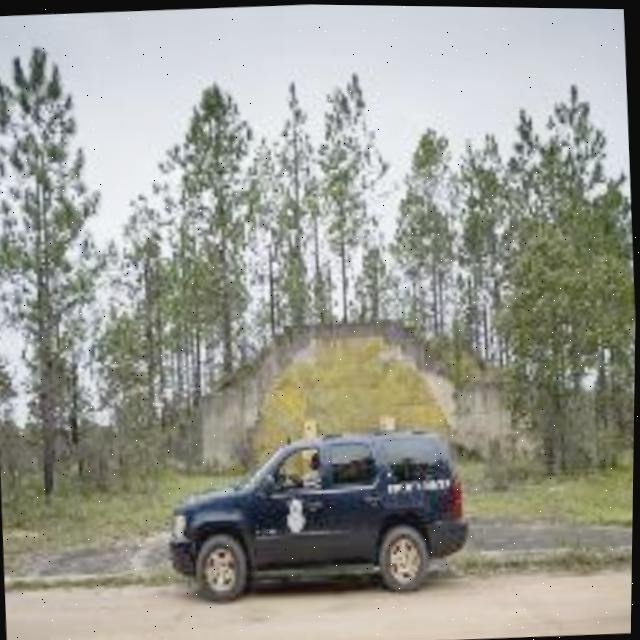emergency: (145, 413, 478, 605)
